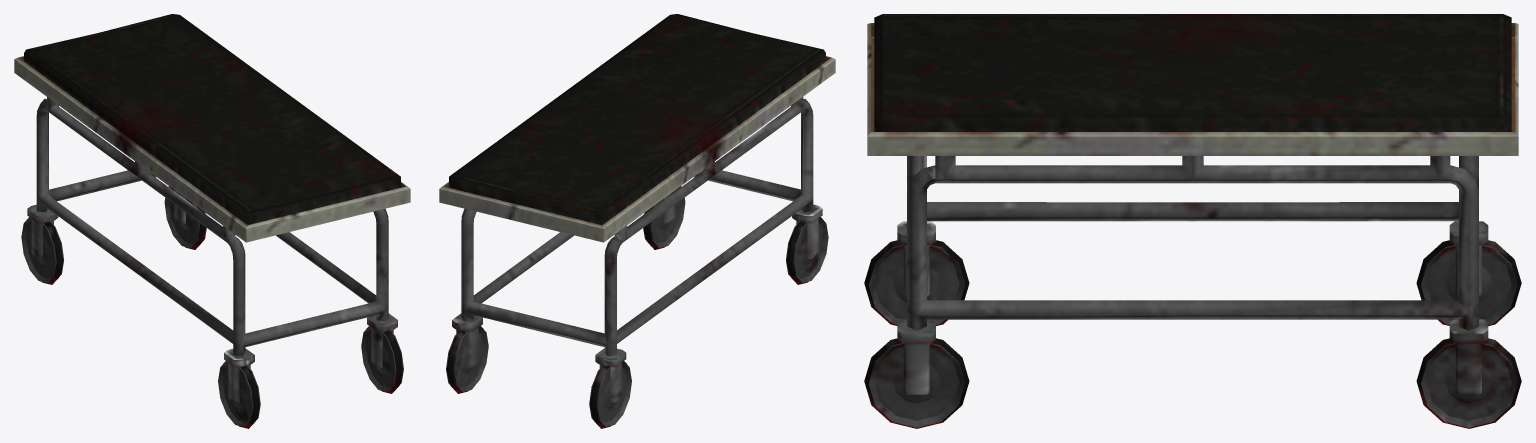
The model's file is HospitalGurney)EmbeddedMedia.fbx.
The picture shows the model from 3 angles, left to right: view 1: azimuth 30°, elevation 25°; view 2: azimuth 150°, elevation 25°; view 3: azimuth 270°, elevation 25°; orthographic projection. The views are drawn at different scales.
Visible parts, largest first — view 1: Mattress, Metal Underside, Top, Outer Wheel_07, Outer Wheel_03, Outer Wheel_01, Outer Wheel_05, Wheel Holder 02, Wheel Holder 04, Wheel Holder 01, Wheel Rubber 01, Wheel Rubber 04 (+1 smaller); view 2: Mattress, Metal Underside, Top, Outer Wheel_03, Outer Wheel_05, Outer Wheel_01, Outer Wheel_07, Wheel Holder 01, Wheel Holder 03, Wheel Holder 02, Wheel Rubber 02, Wheel Rubber 03 (+1 smaller); view 3: Mattress, Metal Underside, Top, Outer Wheel_08, Outer Wheel_06, Outer Wheel_04, Outer Wheel_02, Wheel Holder 04, Wheel Holder 03, Wheel Rubber 04, Wheel Rubber 03, Wheel Rubber 01 (+3 smaller).
Boxes of the visible parts, <box> form: Mattress: <box>24,14,400,224</box>; Metal Underside: <box>36,97,388,356</box>; Top: <box>14,56,410,242</box>; Outer Wheel_07: <box>361,326,396,391</box>; Outer Wheel_03: <box>218,361,253,426</box>; Outer Wheel_01: <box>21,217,56,282</box>; Outer Wheel_05: <box>164,186,199,247</box>; Wheel Holder 02: <box>224,348,254,403</box>; Wheel Holder 04: <box>367,313,397,368</box>; Wheel Holder 01: <box>27,204,58,259</box>; Wheel Rubber 01: <box>27,217,63,284</box>; Wheel Rubber 04: <box>366,326,402,393</box>; Mattress: <box>449,14,825,224</box>; Metal Underside: <box>461,97,813,356</box>; Top: <box>439,56,835,242</box>; Outer Wheel_03: <box>793,217,828,282</box>; Outer Wheel_05: <box>453,326,488,391</box>; Outer Wheel_01: <box>596,361,631,426</box>; Outer Wheel_07: <box>650,186,685,247</box>; Wheel Holder 01: <box>595,348,626,402</box>; Wheel Holder 03: <box>452,313,482,368</box>; Wheel Holder 02: <box>792,204,822,259</box>; Wheel Rubber 02: <box>787,217,823,284</box>; Wheel Rubber 03: <box>447,326,483,393</box>; Mattress: <box>874,14,1511,131</box>; Metal Underside: <box>907,156,1478,330</box>; Top: <box>867,23,1518,155</box>; Outer Wheel_08: <box>868,343,965,427</box>; Outer Wheel_06: <box>1420,343,1517,427</box>; Outer Wheel_04: <box>868,245,965,324</box>; Outer Wheel_02: <box>1420,245,1517,324</box>; Wheel Holder 04: <box>897,319,935,394</box>; Wheel Holder 03: <box>1449,319,1488,394</box>; Wheel Rubber 04: <box>864,338,969,428</box>; Wheel Rubber 03: <box>1416,338,1521,428</box>; Wheel Rubber 01: <box>1416,240,1521,325</box>.
Size of the model in its own units: 30.6 by 39.89 by 75.42.
Materials: 1 (1 with a texture image).
